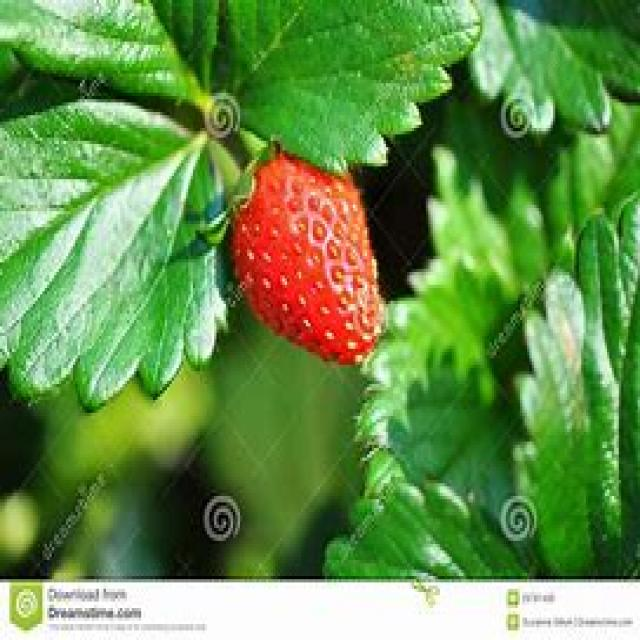Berries strawberries/blueberries: (234, 154, 379, 364)
